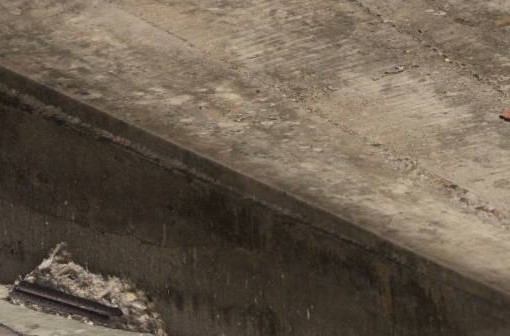Exposed reinforcement: (16, 279, 124, 316), (9, 290, 110, 323)
Spalling: (1, 240, 169, 336)
